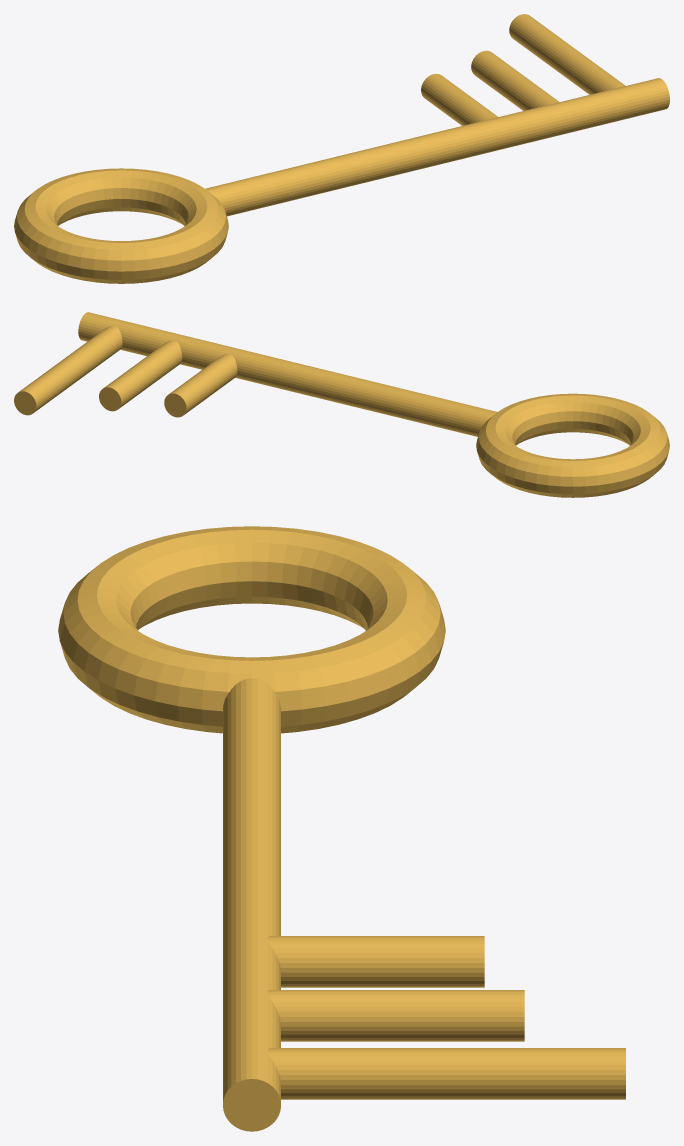
Rendered from Key.fbx.
3 renders of one model, top to bottom at view 1: azimuth 30°, elevation 25°; view 2: azimuth 150°, elevation 25°; view 3: azimuth 270°, elevation 25°, orthographic. The views are drawn at different scales.
Visible parts, largest first — view 1: Torus; view 2: Torus; view 3: Torus.
Part boxes in pixels (x1,y1,x2,y2): Torus: (14, 14, 669, 283); Torus: (14, 312, 669, 497); Torus: (58, 526, 625, 1131).
Size of the model in its own units: 85.09 by 5 by 36.6.
